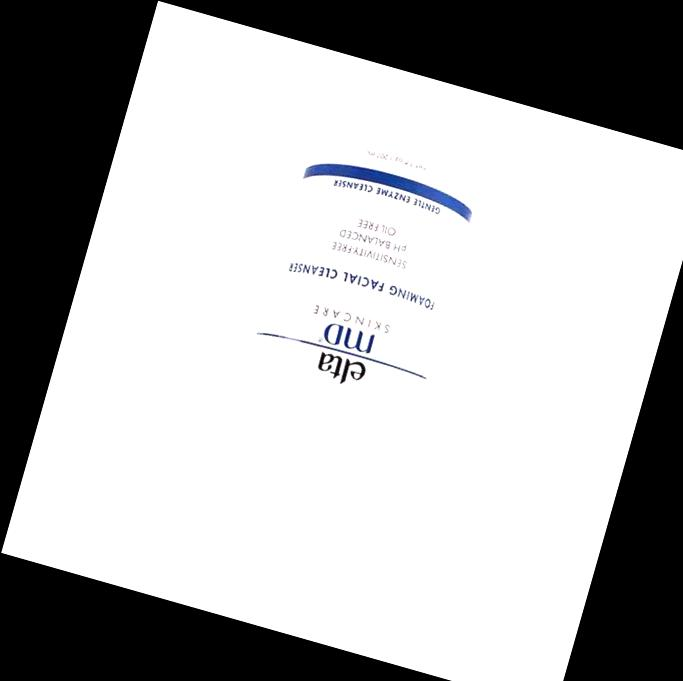cosmetic: (191, 97, 487, 603)
